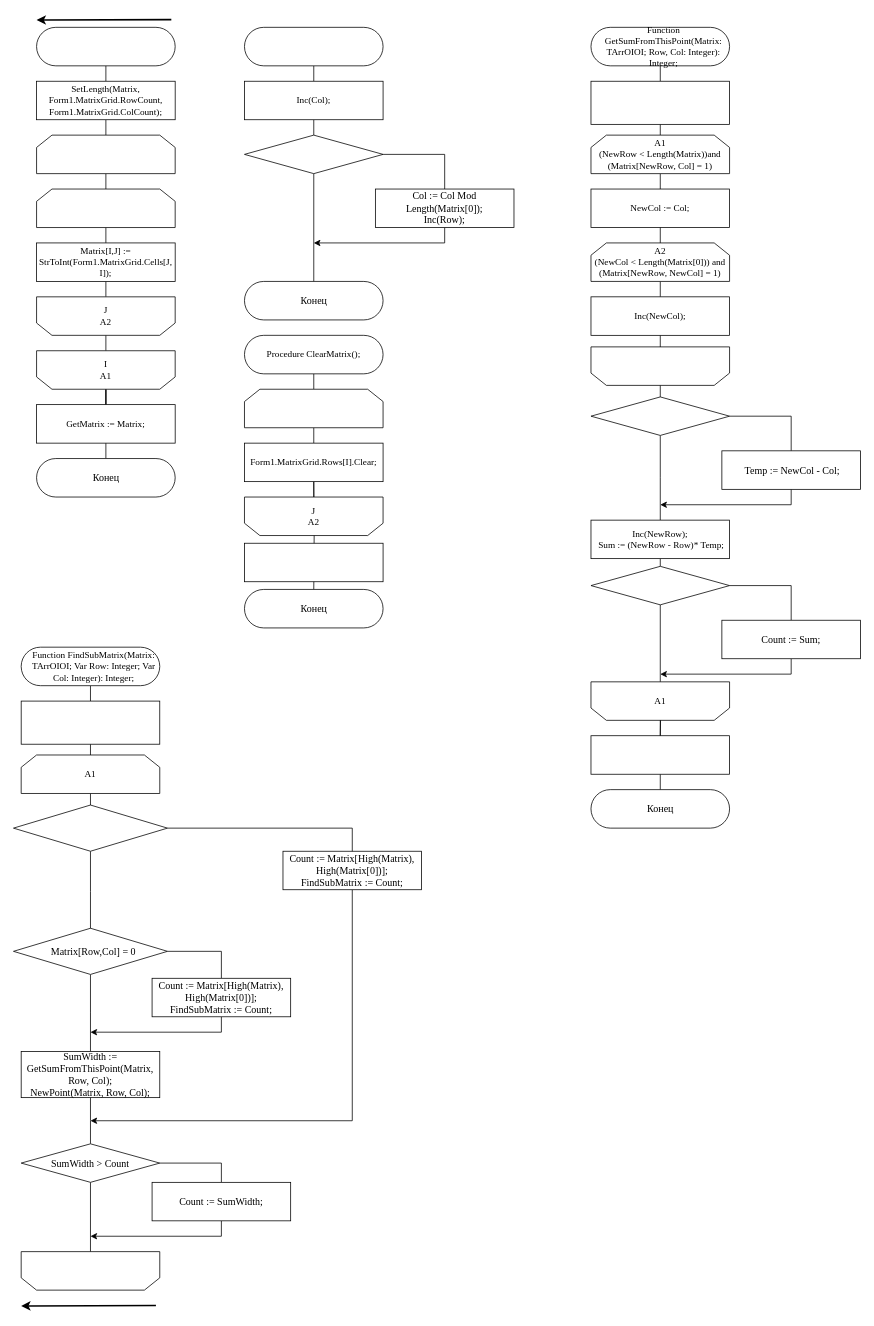
This 874x1326 diagram has some shape labels left out. The centre of each missing label's shape, as x and y in pixels:
"(Row = High(Matrix)) and (Col = High(Matrix[0]) A1" goes at point 90,1270.
"(Row = High(Matrix)) and (Col = High(Matrix[0]))" goes at point 90,827.
"A1 I := 0 to Form1.MatrixGrid.RowCount - 1" goes at point 313,408.
"A1 I := 0 To High(Matrix)" goes at point 105,154.
"A2" goes at point 660,365.
"A2 J := 0 To High(Matrix[0])" goes at point 105,208.
"Col > High(Matrix[0])" goes at point 313,154.
"Count := 0; SumWidth := 0;" goes at point 90,722.
"Form1.FindAnswerButton.Enabled := False;" goes at point 313,562.
"Function GetMatrix(): TArrOIOI;" goes at point 105,46.
"GetSumFromThisPoint := Matrix;" goes at point 660,754.
"NewRow := Row; NewCol := Col; Temp := Length(Matrix[0]); Sum := 0;" goes at point 660,102.
"Procedure NewPoint(Matrix: TArrOIOI; Var Row: Integer; Var Col: Integer);" goes at point 313,46.
"Sum > Count" goes at point 660,585.
"Temp > NewCol - Col" goes at point 660,415.
